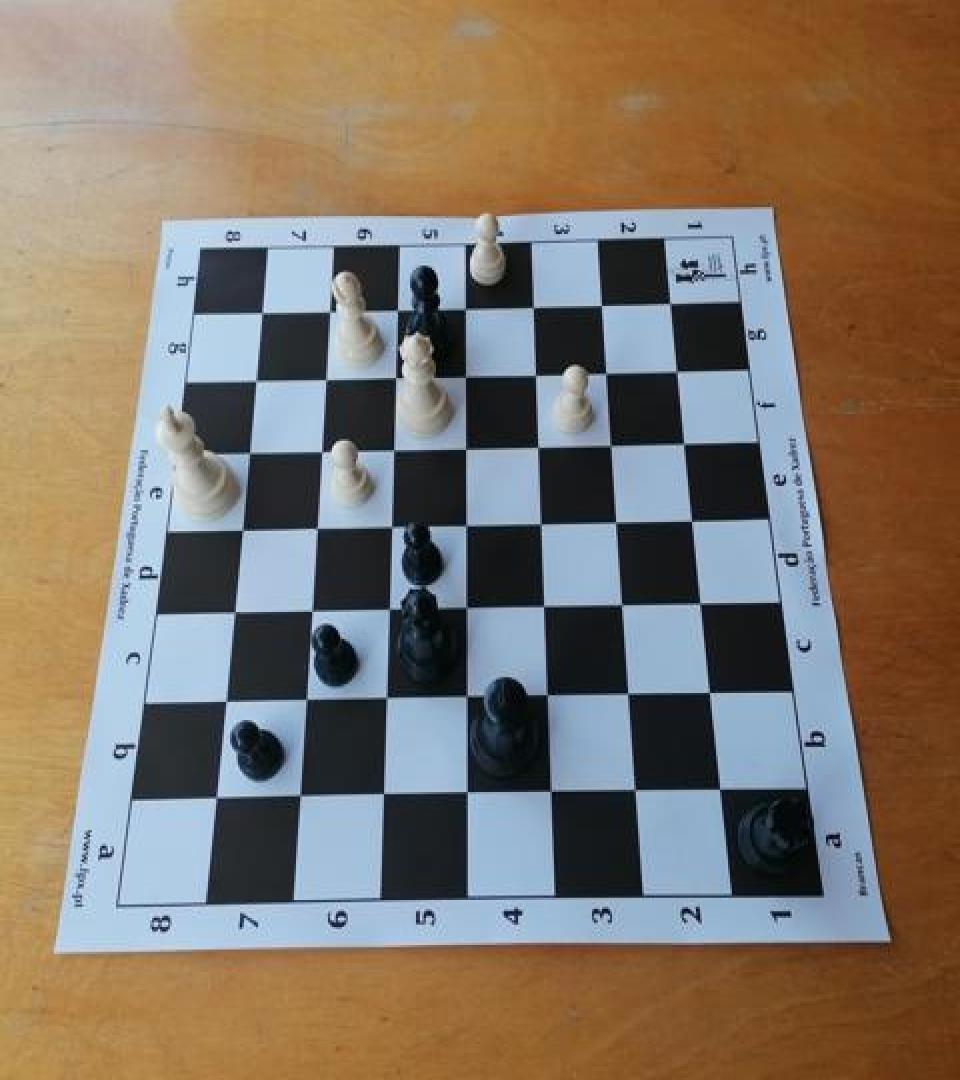xcorner: (201, 780, 231, 814), (285, 780, 315, 814), (370, 778, 400, 812), (455, 777, 485, 811), (540, 776, 570, 810), (625, 776, 655, 810), (710, 775, 740, 809), (210, 684, 240, 718), (291, 683, 321, 717), (373, 682, 403, 716), (536, 680, 566, 714), (617, 678, 647, 712), (700, 677, 730, 711), (219, 594, 249, 628), (297, 593, 327, 627), (453, 590, 483, 624), (532, 590, 562, 624), (611, 588, 641, 622), (690, 587, 720, 621), (227, 510, 257, 544), (302, 510, 332, 544), (377, 508, 407, 542), (453, 507, 483, 541), (529, 506, 559, 540), (605, 505, 635, 539), (681, 504, 711, 538), (234, 433, 264, 467), (307, 432, 337, 466), (380, 431, 410, 465), (453, 430, 483, 464), (526, 428, 556, 462), (599, 426, 629, 460), (672, 425, 702, 459), (241, 361, 271, 395), (311, 359, 341, 393), (382, 358, 412, 392), (452, 356, 482, 390), (594, 354, 624, 388), (665, 353, 695, 387), (316, 291, 346, 325), (384, 290, 414, 324), (452, 289, 482, 323), (520, 288, 550, 322), (589, 287, 619, 321), (657, 284, 687, 318), (454, 681, 484, 714), (375, 592, 405, 625), (523, 356, 553, 389), (248, 294, 278, 327)
